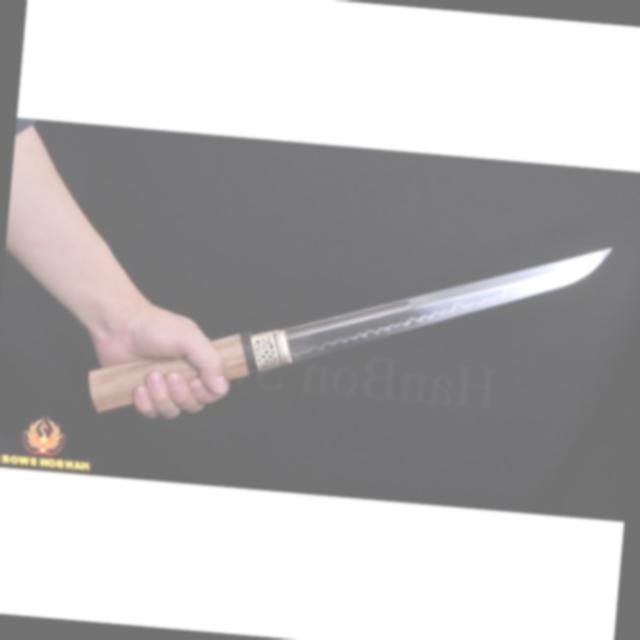short sword: (0, 186, 628, 469)
